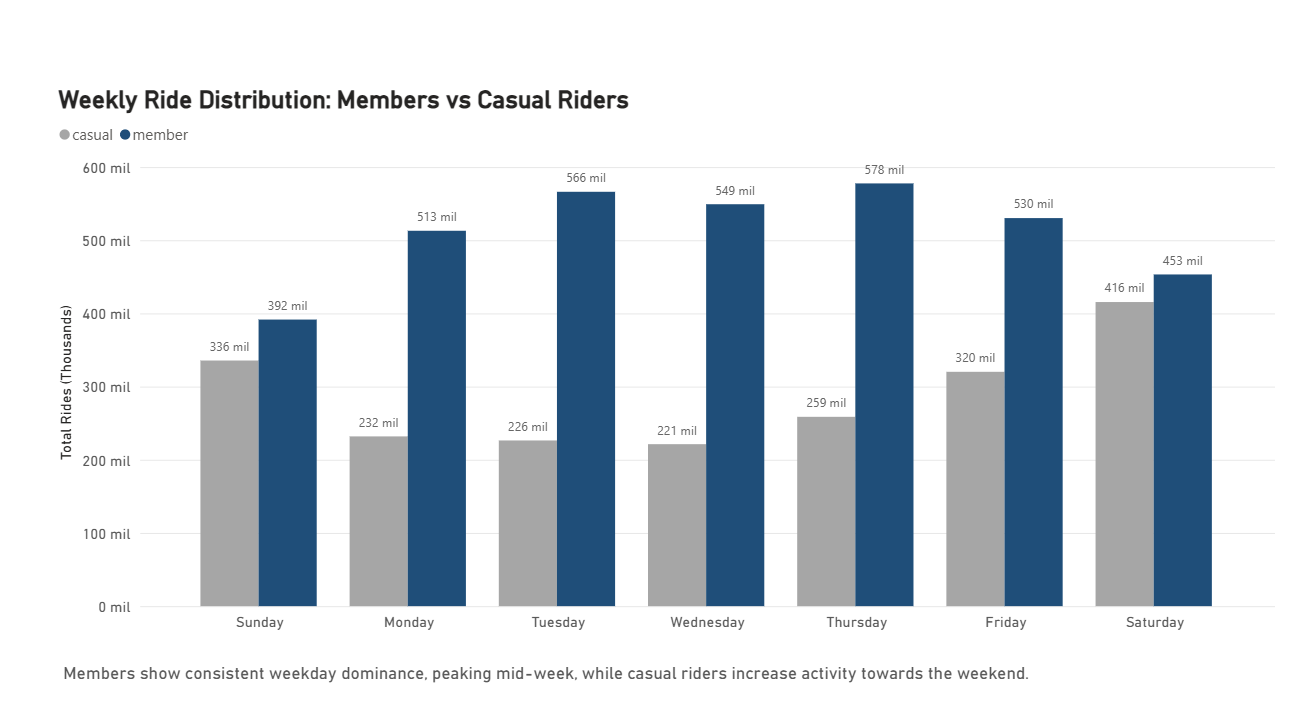

What the dashboard file says about the page in this screenshot:
{"tool":"powerbi","page":{"name":"2 Weekday analysis","canvas":[1280,720],"ordinal":1},"visuals":[{"type":"clusteredColumnChart","title":"Weekly Ride Distribution: Members vs Casual Riders","fields":{"Category":["rides_by_weekday.weekday_name"],"Y":["Sum(rides_by_weekday.total_rides)"],"Series":["rides_by_weekday.member_casual"]},"box":[55,90,1200,540],"z":0},{"type":"textbox","box":[60,650,1220,69.7],"z":1000}]}

Visuals, with their boxes in screenshot pixels (x1, y1, x2, y2), scaled from the page's 1280x720 canvas onto the 1298x726 screenshot:
"Weekly Ride Distribution: Members vs Casual Riders" clusteredColumnChart: detection(56, 91, 1273, 635)
textbox: detection(61, 655, 1297, 725)
